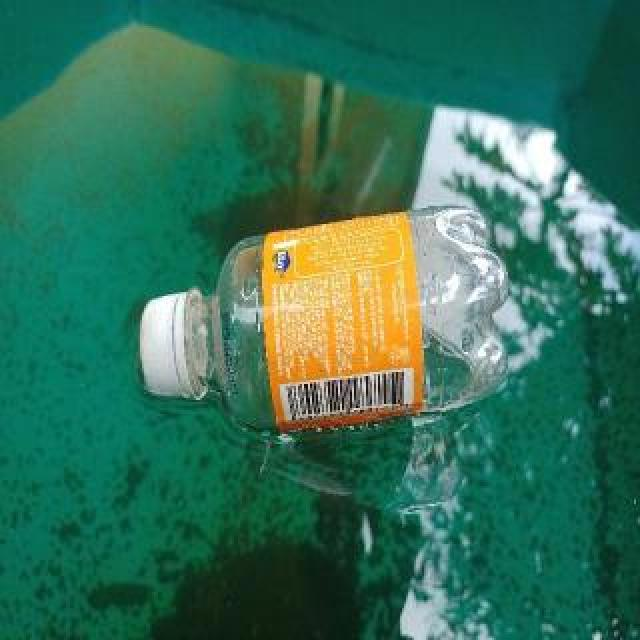Bottle: (136, 202, 506, 439)
